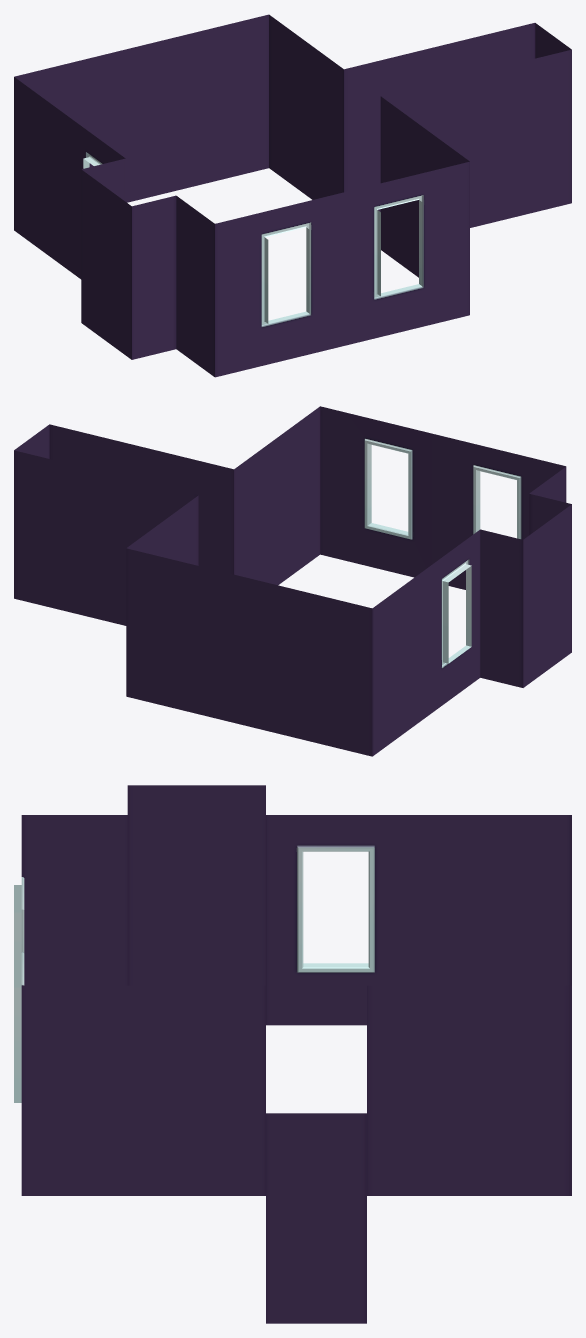
The model's file is Walls.fbx.
The picture shows the model from 3 angles, top to bottom: view 1: azimuth 30°, elevation 25°; view 2: azimuth 150°, elevation 25°; view 3: azimuth 270°, elevation 25°; orthographic projection. The views are drawn at different scales.
Visible parts, largest first — view 1: Walls; view 2: Walls; view 3: Walls.
Boxes of the visible parts, x1=… form: Walls: x1=14, y1=14, x2=571, y2=377; Walls: x1=14, y1=406, x2=571, y2=756; Walls: x1=14, y1=785, x2=571, y2=1323.
Size of the model in its own units: 1662 by 497 by 1196.
